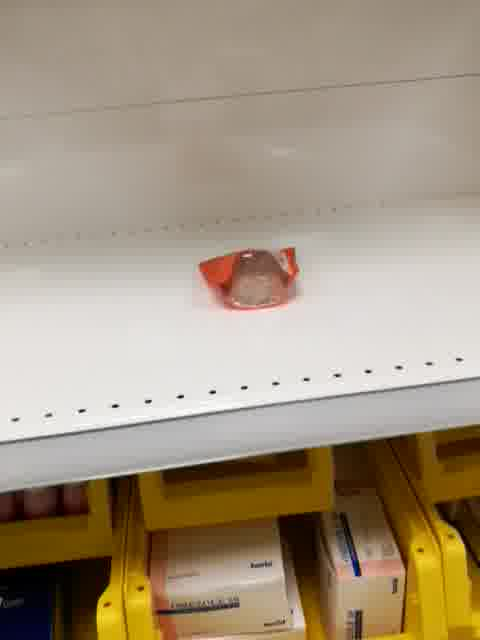whitechia: (195, 246, 301, 311)
